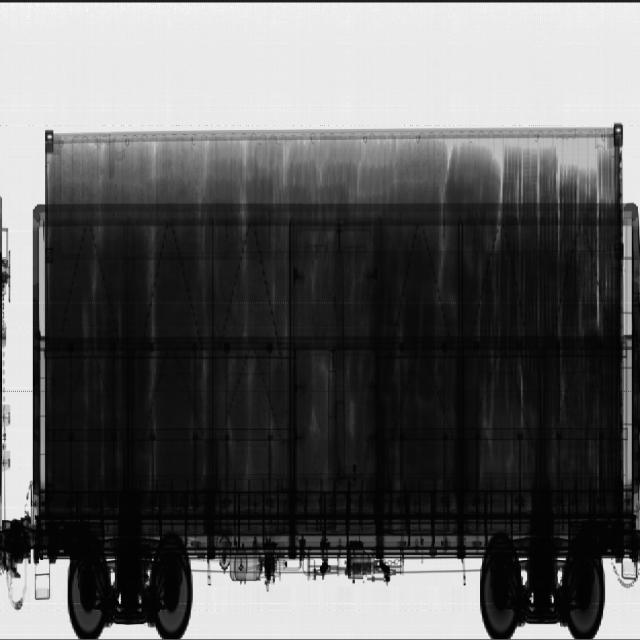textiles: (49, 147, 501, 505)
